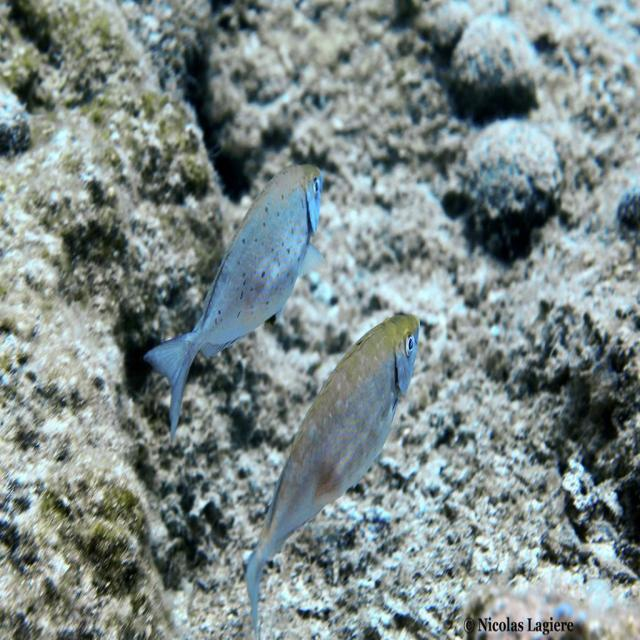Sokar Baligi: (216, 299, 451, 636), (141, 135, 336, 439)
